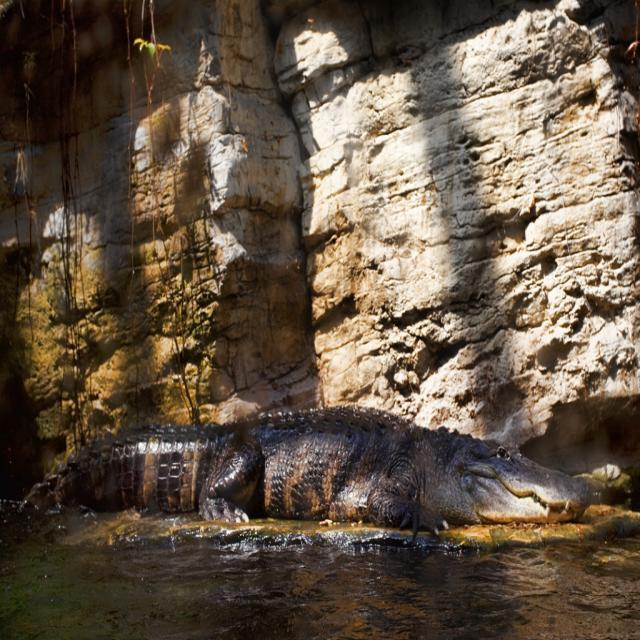crocodile: (0, 394, 615, 569)
